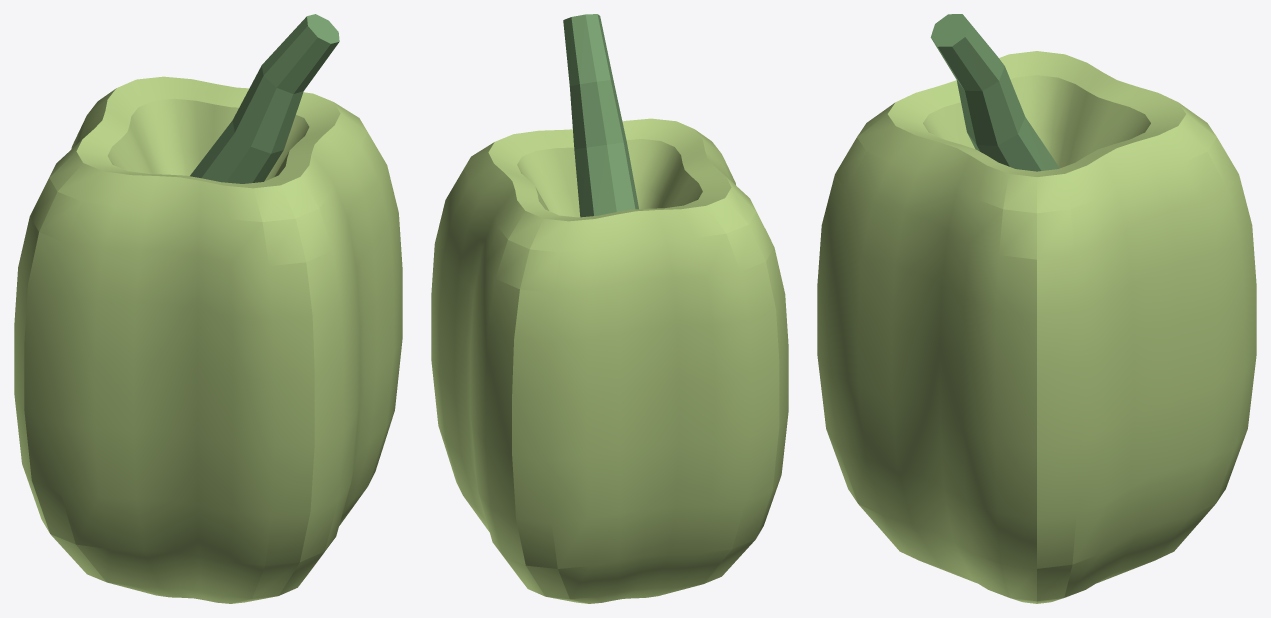
Rendered from fresh-produce-and-groceries-bell-pepper-green-3297d47d__24379.glb.
3 renders of one model, left to right at view 1: azimuth 30°, elevation 25°; view 2: azimuth 150°, elevation 25°; view 3: azimuth 270°, elevation 25°, orthographic. The views are drawn at different scales.
Visible parts, largest first — view 1: bell-pepper-green; view 2: bell-pepper-green; view 3: bell-pepper-green.
Part boxes in pixels (bbox=[...]): bell-pepper-green: bbox=[14, 14, 402, 603]; bell-pepper-green: bbox=[431, 14, 788, 603]; bell-pepper-green: bbox=[817, 14, 1256, 603].
Size of the model in its own units: 0.086 by 0.1274 by 0.086.
